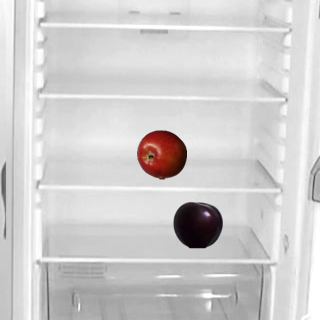Apple Braeburn: (136, 129, 186, 179)
Cherry Wax Black: (172, 199, 222, 249)
